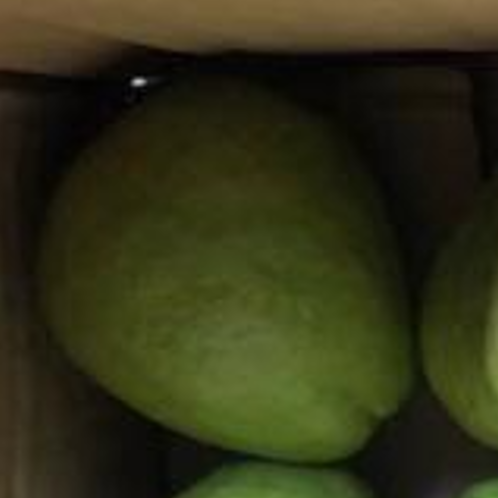guava_A: (32, 76, 418, 463)
